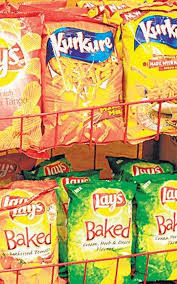kurkure: (43, 25, 113, 61), (136, 18, 177, 44)
plastic: (71, 182, 174, 278)
wrapper: (38, 15, 130, 144)
